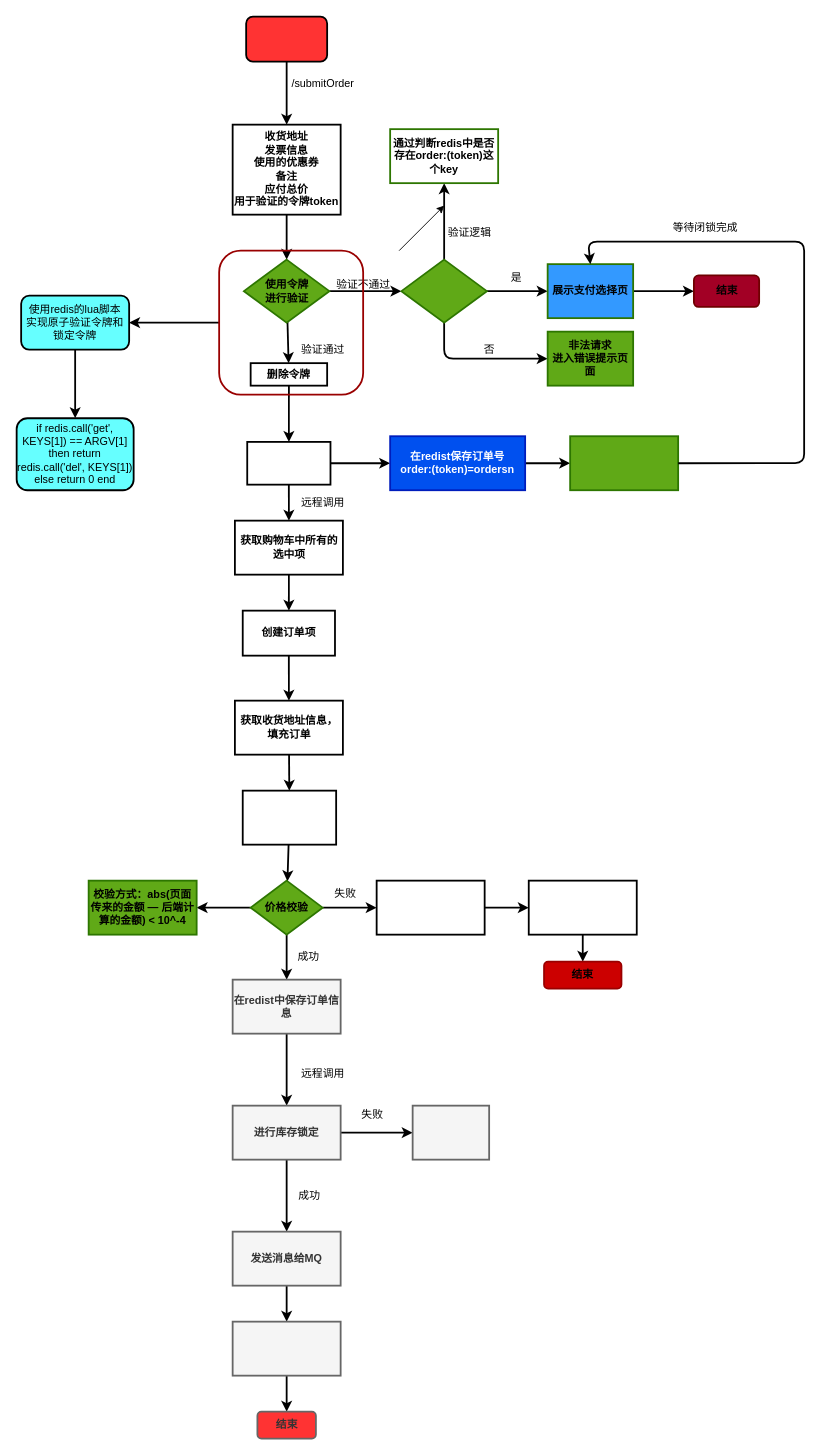
The diagram is 827 pixels wide and 1454 high, and some of its shapes have lost their labels. Each missing label, with the box of its shape:
准备订单的分布式锁闭锁信息: (569, 435, 679, 491)
创建订单号 ordersn: (246, 441, 331, 485)
删除购物车里的数据: (231, 1320, 341, 1376)
抛异常，提示错误信息: (411, 1104, 490, 1160)
提交订单: (245, 15, 328, 62)
提示商品价格变化，请重新确认: (375, 879, 485, 935)
计算订单金额信息: (241, 789, 337, 845)
订单是否存在: (400, 258, 487, 323)
重定向到订单确认页面: (527, 879, 637, 935)
